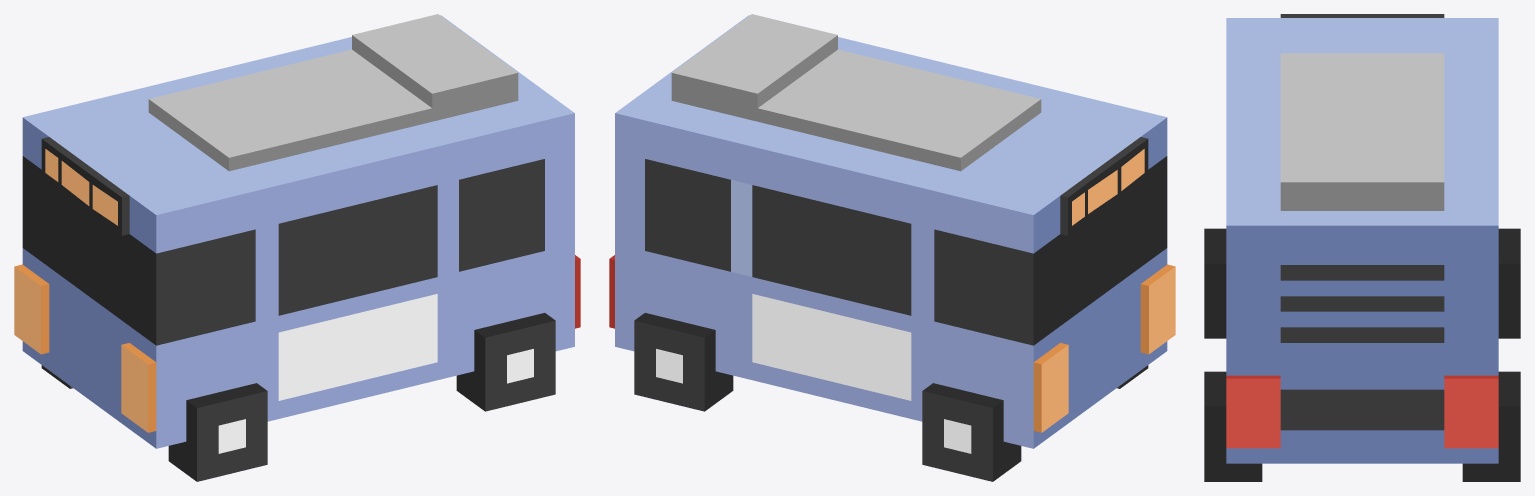
The model's file is road-bus-1.1.glb.
3 views of the same model, side by side, from view 1: azimuth 30°, elevation 25°; view 2: azimuth 150°, elevation 25°; view 3: azimuth 270°, elevation 25° (orthographic).
Visible parts, largest first — view 1: BUS-BODY, BUS-WHEELS; view 2: BUS-BODY, BUS-WHEELS; view 3: BUS-BODY, BUS-WHEELS.
Boxes of the visible parts, x1,y1,x2,y2 form: BUS-BODY: (14,14,580,448); BUS-WHEELS: (41,313,555,481); BUS-BODY: (609,14,1175,448); BUS-WHEELS: (634,313,1148,481); BUS-BODY: (1226,14,1498,463); BUS-WHEELS: (1204,228,1520,481).
Size of the model in its own units: 1.45 by 0.9402 by 0.9007.
Materials: 1 (1 with a texture image).
